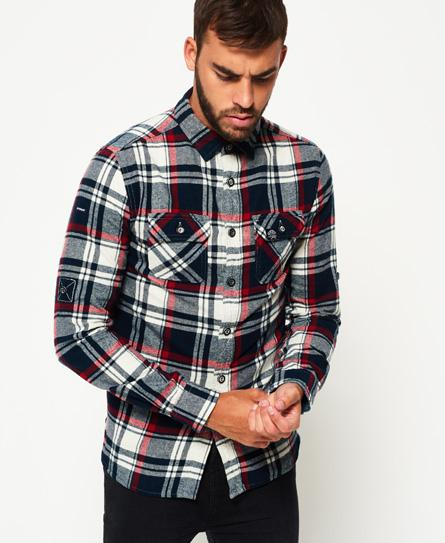teeshirt: (51, 85, 345, 507)
